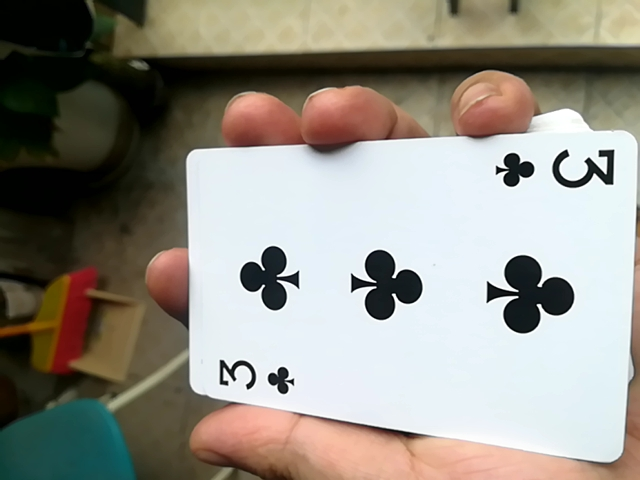mh 3: (169, 134, 634, 464)
